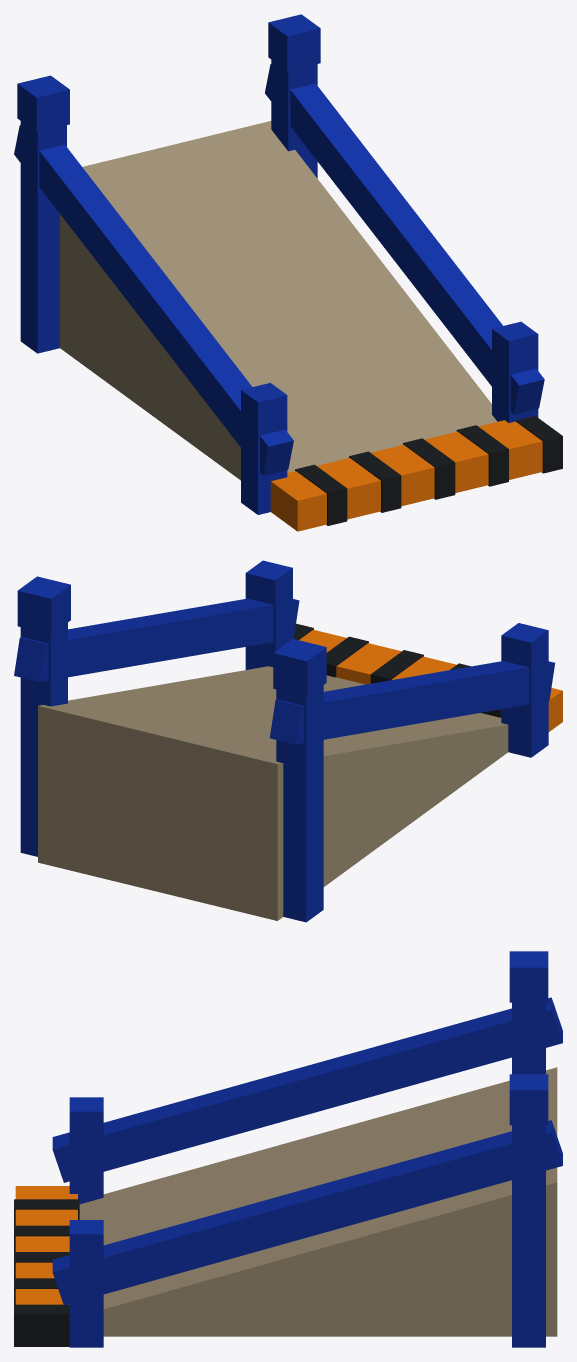
File: ramp.obj
3 renders of one model, top to bottom at view 1: azimuth 30°, elevation 25°; view 2: azimuth 150°, elevation 25°; view 3: azimuth 270°, elevation 25°, orthographic.
Parts seen in each view (by area): view 1: ramp_deck, rail_r, rail_l, hazard_lip, post_high_l, post_low_l, post_low_r, post_high_r, post_cap_l, post_cap_r, hazard_stripe_2, hazard_stripe_3 (+3 smaller); view 2: ramp_deck, rail_l, rail_r, post_high_l, post_high_r, post_low_l, post_low_r, hazard_lip, post_cap_l, post_cap_r, hazard_stripe_2, hazard_stripe_3; view 3: ramp_deck, rail_r, rail_l, post_high_r, post_low_r, hazard_lip, post_low_l, post_high_l, hazard_stripe_4, post_cap_l, post_cap_r, hazard_stripe_0 (+3 smaller).
Part boxes in pixels (<box>): ramp_deck: <box>60,121,497,480</box>; rail_r: <box>265,64,544,414</box>; rail_l: <box>14,125,293,475</box>; hazard_lip: <box>270,420,542,531</box>; post_high_l: <box>20,121,66,353</box>; post_low_l: <box>241,383,287,514</box>; post_low_r: <box>492,321,538,422</box>; post_high_r: <box>271,60,317,178</box>; post_cap_l: <box>17,75,69,132</box>; post_cap_r: <box>268,14,320,71</box>; hazard_stripe_2: <box>403,438,455,499</box>; hazard_stripe_3: <box>456,425,508,486</box>; ramp_deck: <box>38,666,508,920</box>; rail_l: <box>270,661,554,744</box>; rail_r: <box>14,598,299,681</box>; post_high_l: <box>276,685,323,922</box>; post_high_r: <box>20,623,67,856</box>; post_low_l: <box>501,623,548,757</box>; post_low_r: <box>245,560,292,669</box>; hazard_lip: <box>299,629,562,731</box>; post_cap_l: <box>273,639,326,696</box>; post_cap_r: <box>17,576,70,634</box>; hazard_stripe_2: <box>370,650,423,683</box>; hazard_stripe_3: <box>326,636,368,677</box>; ramp_deck: <box>79,1067,557,1336</box>; rail_r: <box>52,1120,562,1305</box>; rail_l: <box>52,997,562,1182</box>; post_high_r: <box>512,1125,545,1347</box>; post_low_r: <box>69,1220,103,1347</box>; hazard_lip: <box>15,1186,77,1304</box>; post_low_l: <box>69,1097,103,1204</box>; post_high_l: <box>512,1002,545,1074</box>; hazard_stripe_4: <box>14,1304,69,1346</box>; post_cap_l: <box>509,951,548,1002</box>; post_cap_r: <box>509,1074,548,1125</box>; hazard_stripe_0: <box>14,1199,79,1225</box>.
Size of the model in its own units: 2.9 by 2.52 by 4.84.
